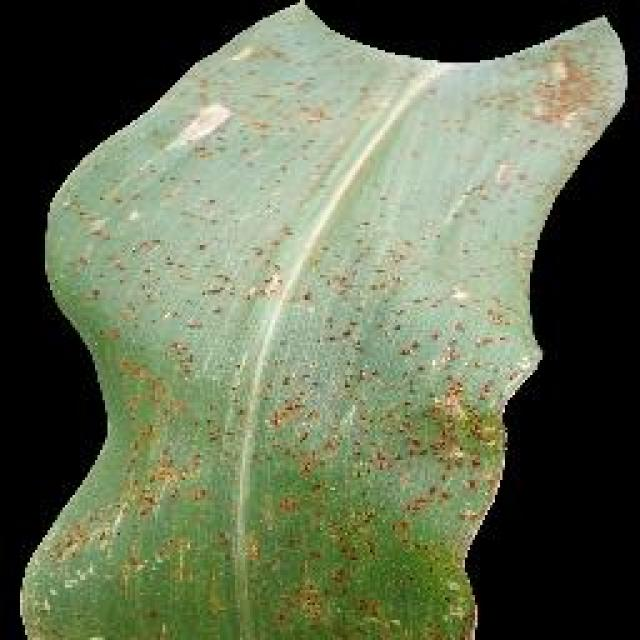Corn Common Rust: (72, 146, 540, 636)
